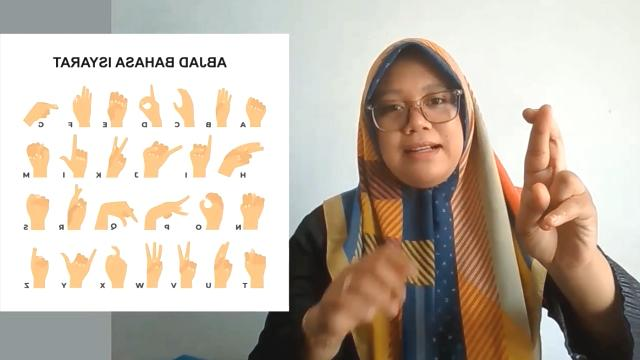R: (510, 98, 602, 272)
